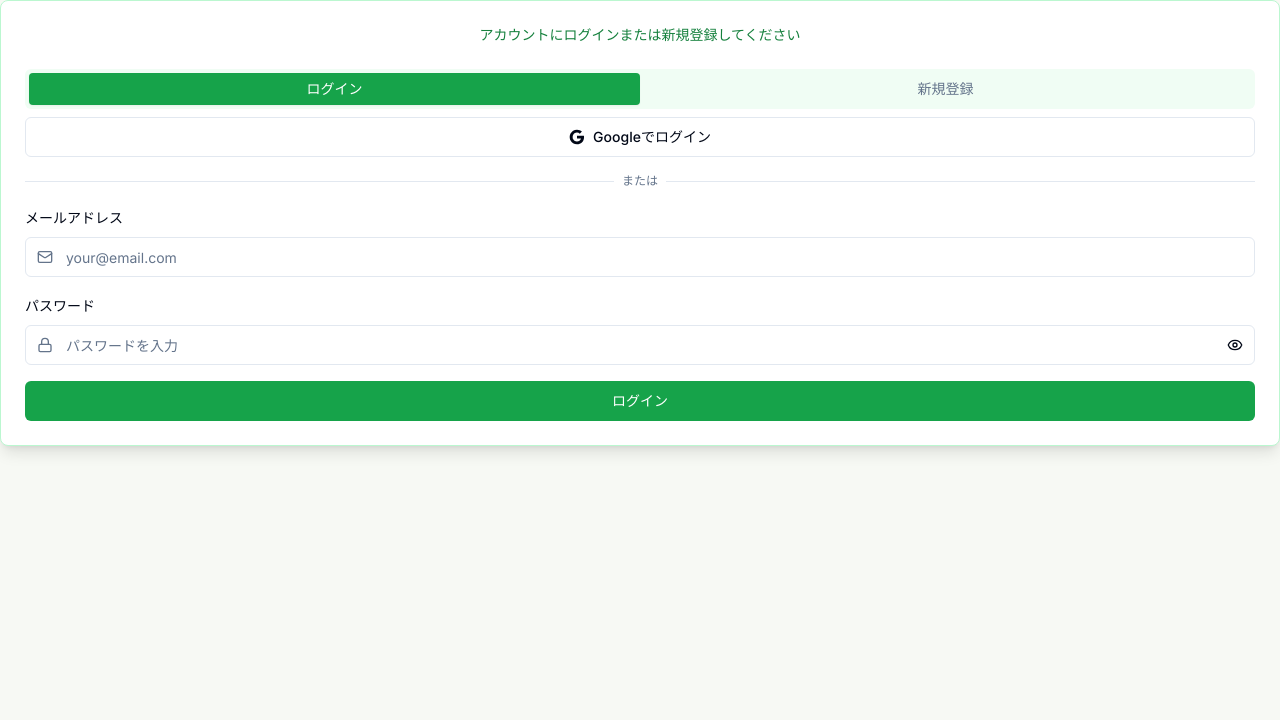
Scenario: 認証エッジケーステスト › ネットワークエラーのテスト › 新規登録時のネットワークエラー
Click the tab "新規登録".
click(946, 89)  # box [640,73,1251,105]
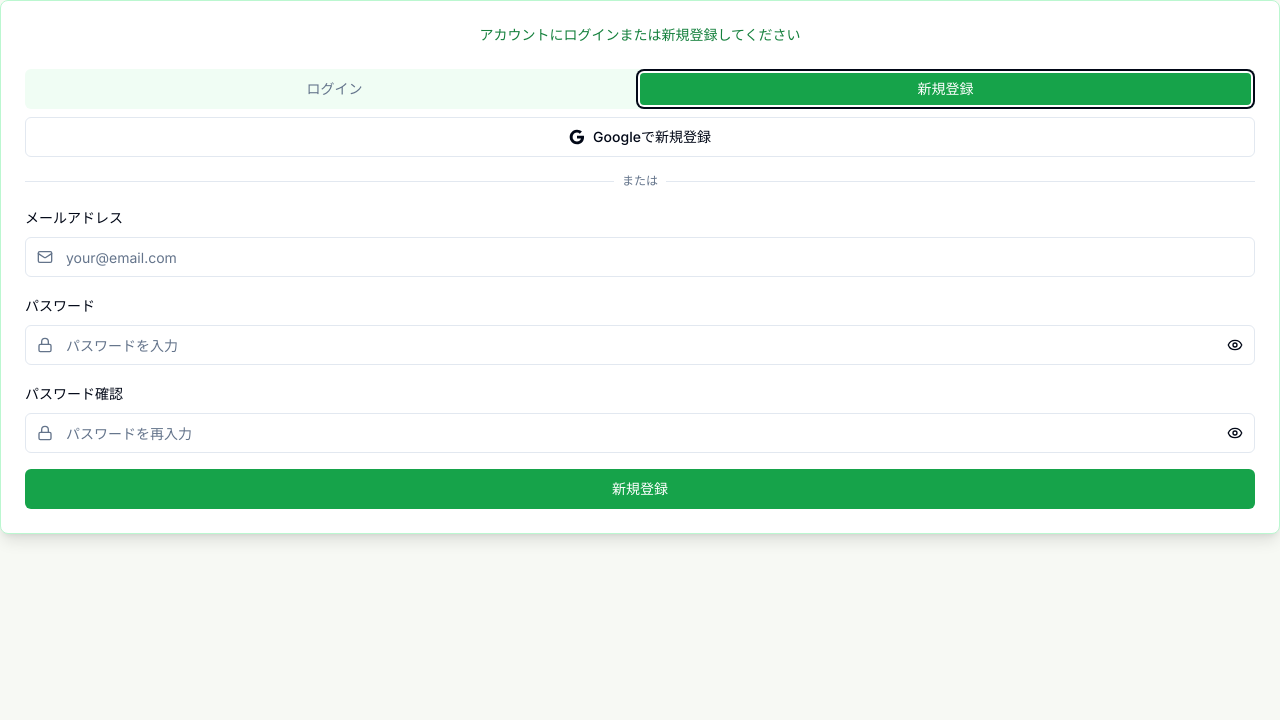
Result: the password field labelled "パスワード確認" is shown at [25,413,1255,453]
Type "test@example.com" into the field labelled "メールアドレス".
click(640, 257); type("test@example.com")  # box [25,237,1255,277]
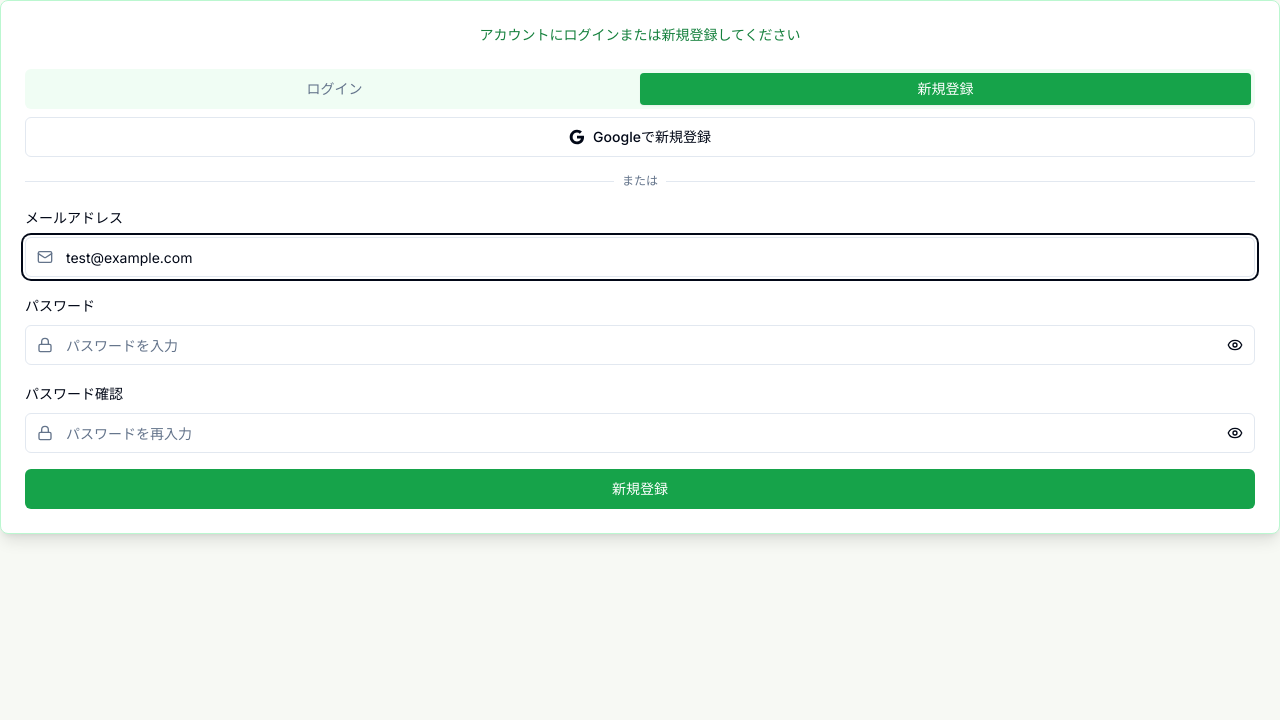
Type "password123" into the password field labelled "パスワード".
click(640, 345); type("password123")  # box [25,325,1255,365]
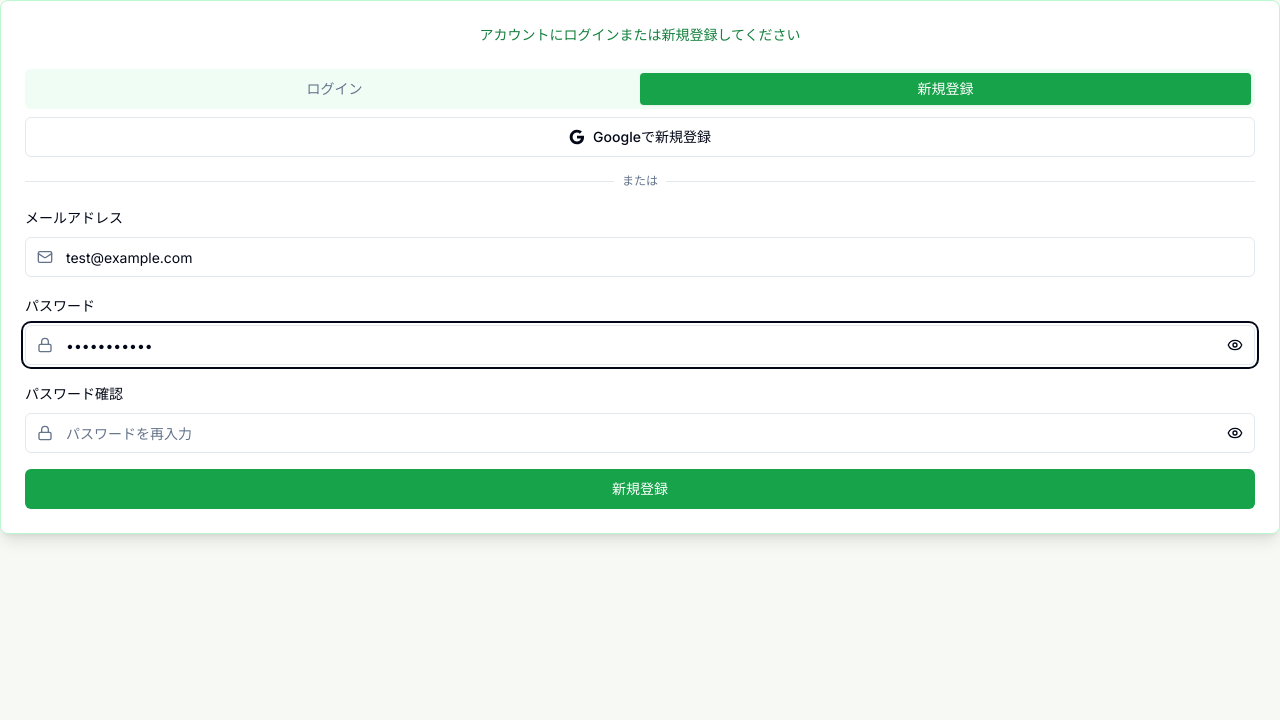
Type "password123" into the password field labelled "パスワード確認".
click(640, 433); type("password123")  # box [25,413,1255,453]
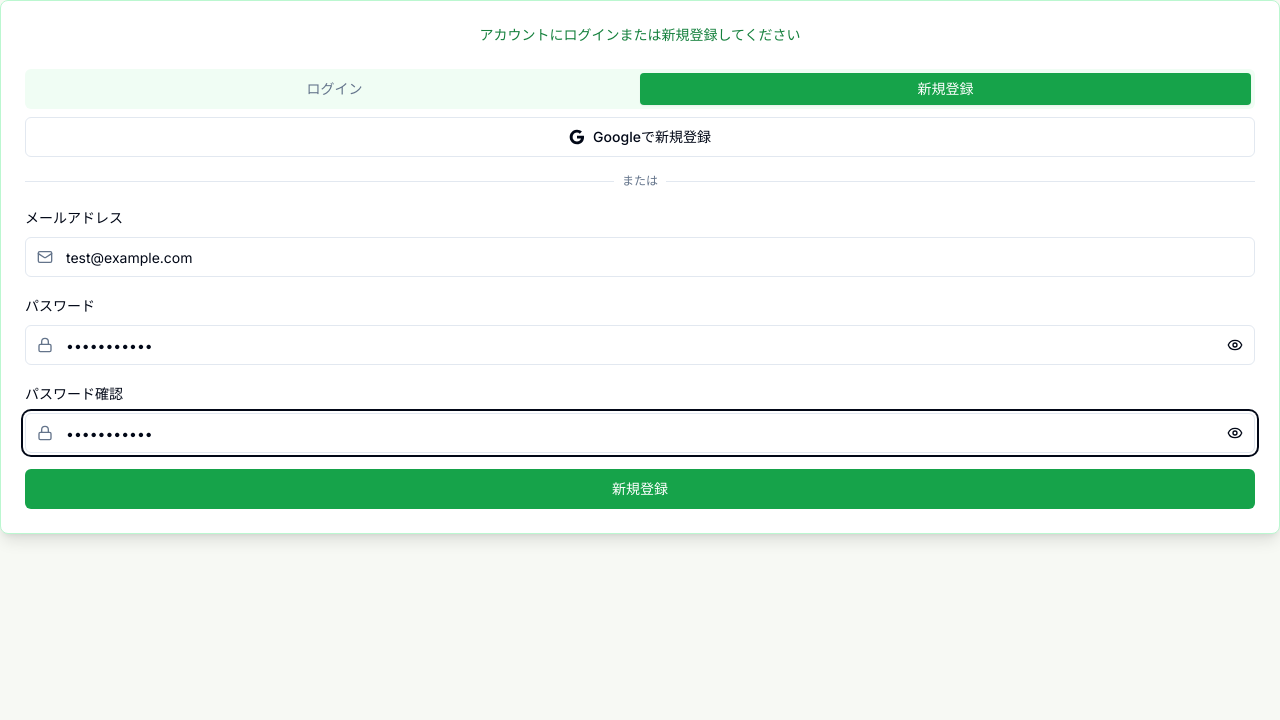
Submit the form "新規登録", box [25,205,1255,509]
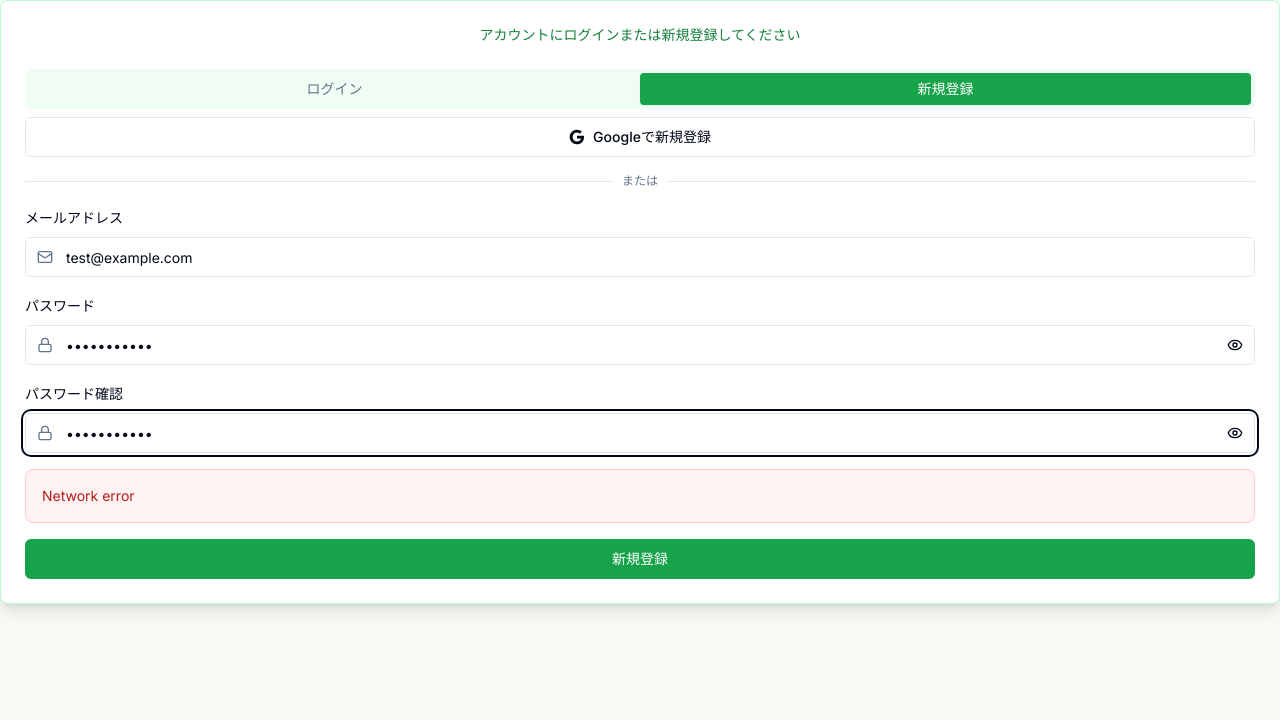
Result: the text "Network error" is shown at [42,487,135,504]
